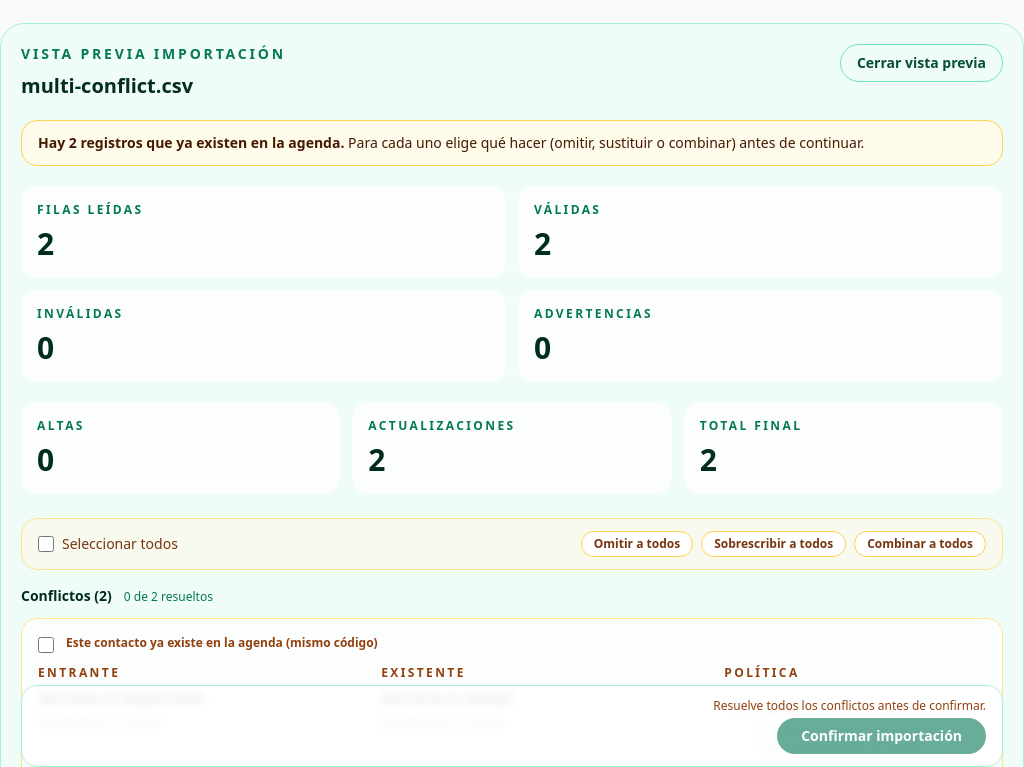
Test: CsvImportPreviewPanel › conflict multi-select and bulk-apply › select-all checks all per-conflict checkboxes
Click the checkbox labelled "Seleccionar todos" at coordinates (46, 544), box top-left (38, 536), bottom-right (54, 552)
(page scrolled)
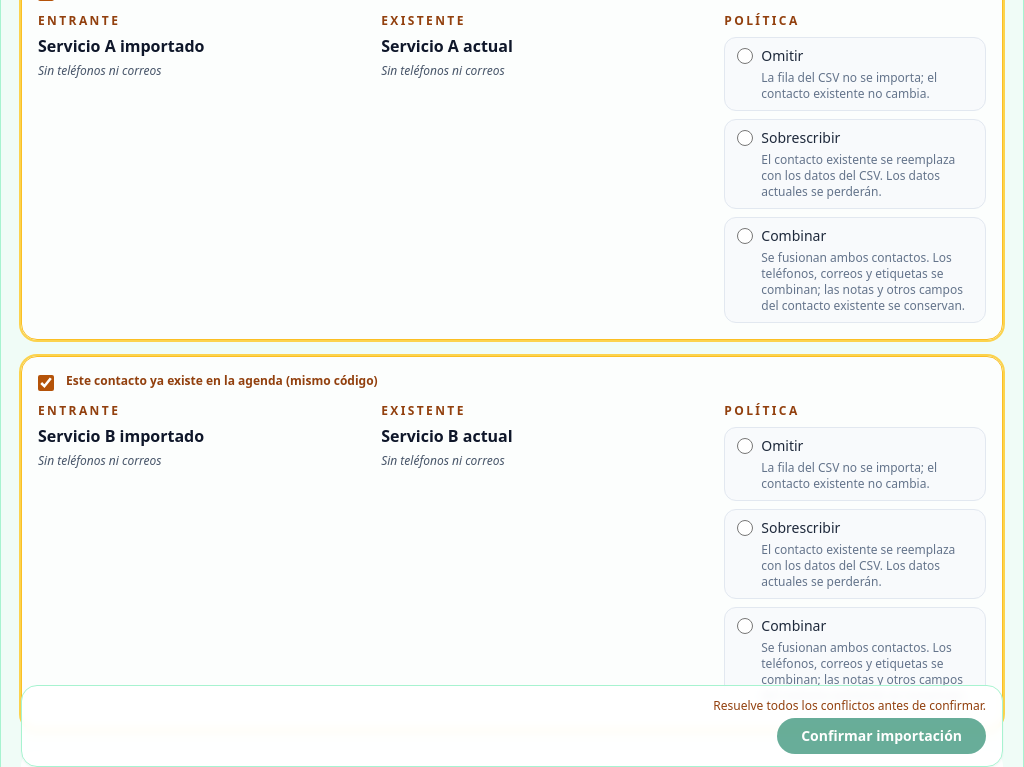
Now the checkbox named "Seleccionar Servicio B importado" is checked, box top-left (38, 375), bottom-right (54, 391)
